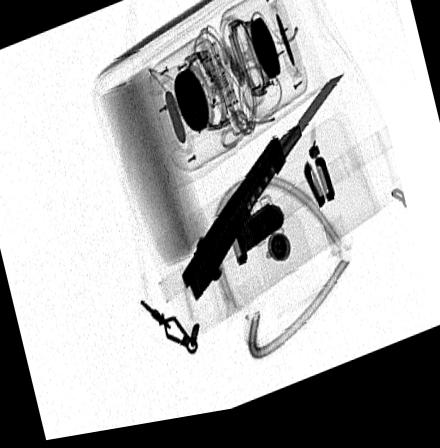Knife: (179, 84, 347, 309)
